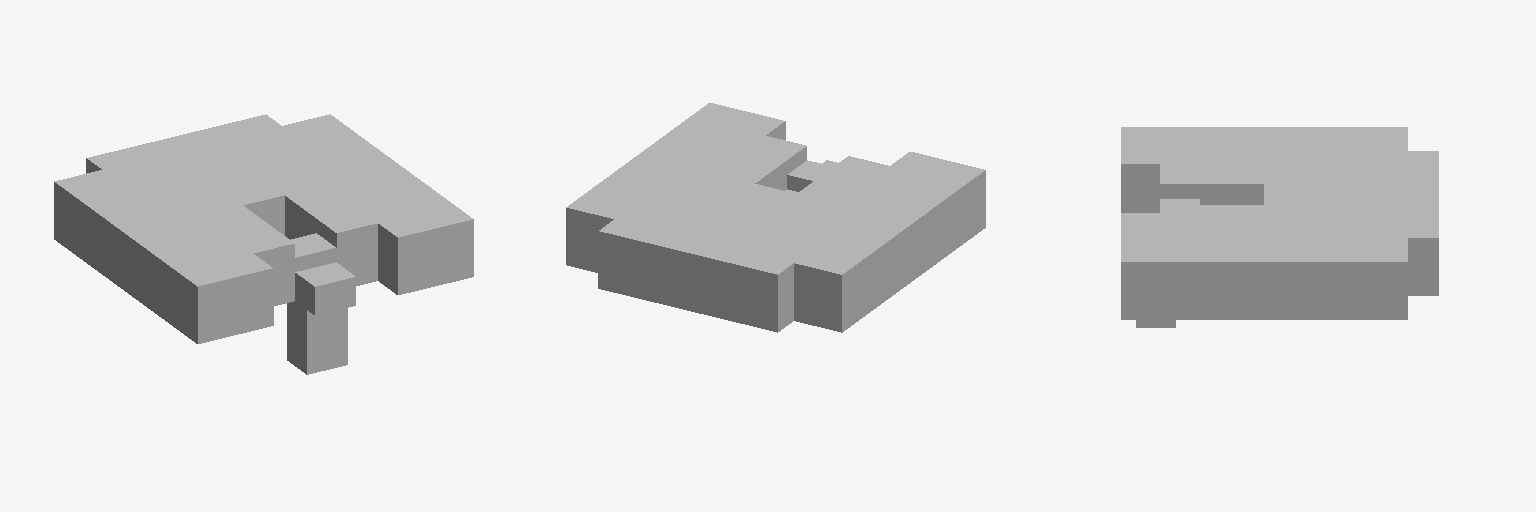
Rendered from lilypad.obj.
The picture shows the model from 3 angles: view 1: azimuth 30°, elevation 25°; view 2: azimuth 150°, elevation 25°; view 3: azimuth 270°, elevation 25°; orthographic projection.
Visible parts, largest first — view 1: object 1; view 2: object 1; view 3: object 1.
Part boxes in pixels (left/top/right/bottom): object 1: left=54, top=114, right=473, bottom=374; object 1: left=566, top=103, right=985, bottom=332; object 1: left=1121, top=127, right=1438, bottom=327.
Bounding box in the file's own units: 4 × 1.7 × 4.